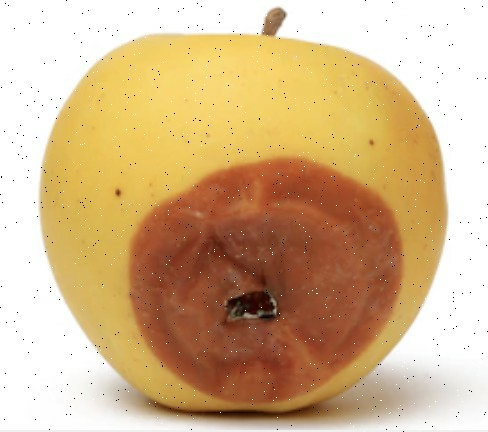rotten_apple: (41, 34, 448, 409)
